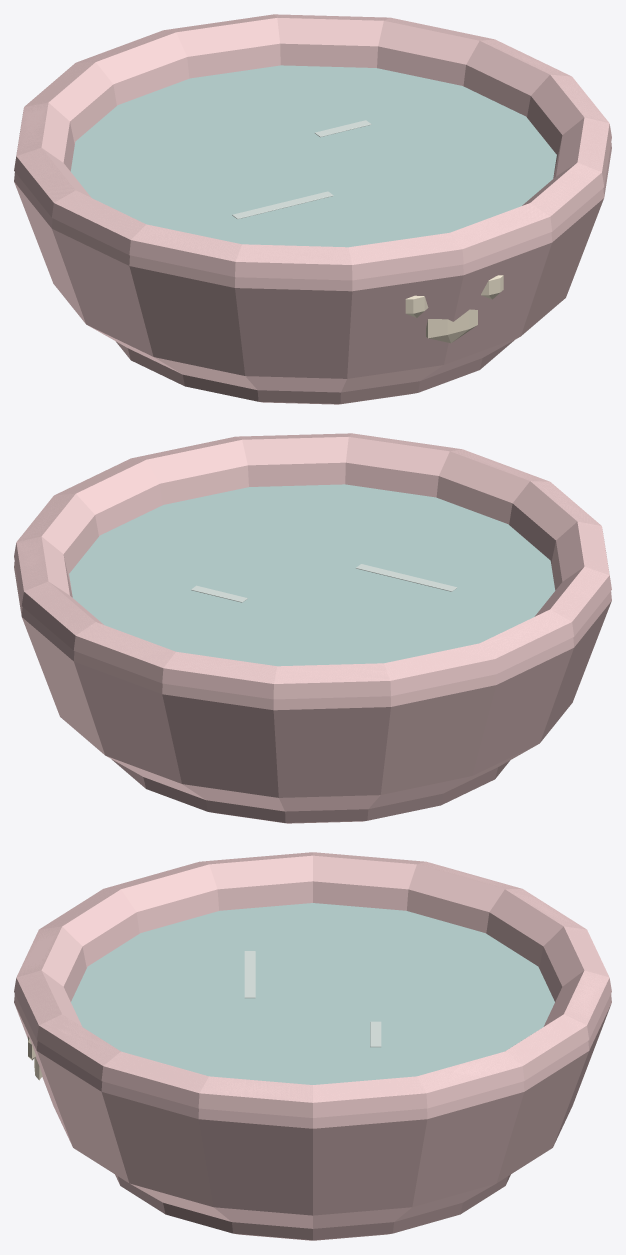
File: crafted-cat-water-0-2.glb
3 views of the same model, one above another, from view 1: azimuth 30°, elevation 25°; view 2: azimuth 150°, elevation 25°; view 3: azimuth 270°, elevation 25° (orthographic).
Parts seen in each view (by area): view 1: ceramic-bowl, water-level, glazed-rim, foot-ring, paw-pad, water-glint; view 2: ceramic-bowl, water-level, glazed-rim, foot-ring, water-glint; view 3: ceramic-bowl, water-level, glazed-rim, foot-ring, water-glint.
Part boxes in pixels (left/top/right/bottom): ceramic-bowl: left=14, top=14, right=611, bottom=392; water-level: left=70, top=65, right=556, bottom=247; glazed-rim: left=14, top=14, right=611, bottom=280; foot-ring: left=116, top=340, right=514, bottom=404; paw-pad: left=426, top=309, right=477, bottom=343; water-glint: left=232, top=191, right=333, bottom=219; ceramic-bowl: left=14, top=433, right=611, bottom=811; water-level: left=69, top=484, right=555, bottom=666; glazed-rim: left=14, top=433, right=611, bottom=699; foot-ring: left=111, top=759, right=509, bottom=823; water-glint: left=356, top=564, right=457, bottom=591; ceramic-bowl: left=14, top=852, right=611, bottom=1228; water-level: left=71, top=903, right=554, bottom=1084; glazed-rim: left=14, top=852, right=611, bottom=1117; foot-ring: left=115, top=1174, right=510, bottom=1240; water-glint: left=244, top=951, right=255, bottom=998.
Bounding box in the file's own units: 0.76 × 0.265 × 0.76.
